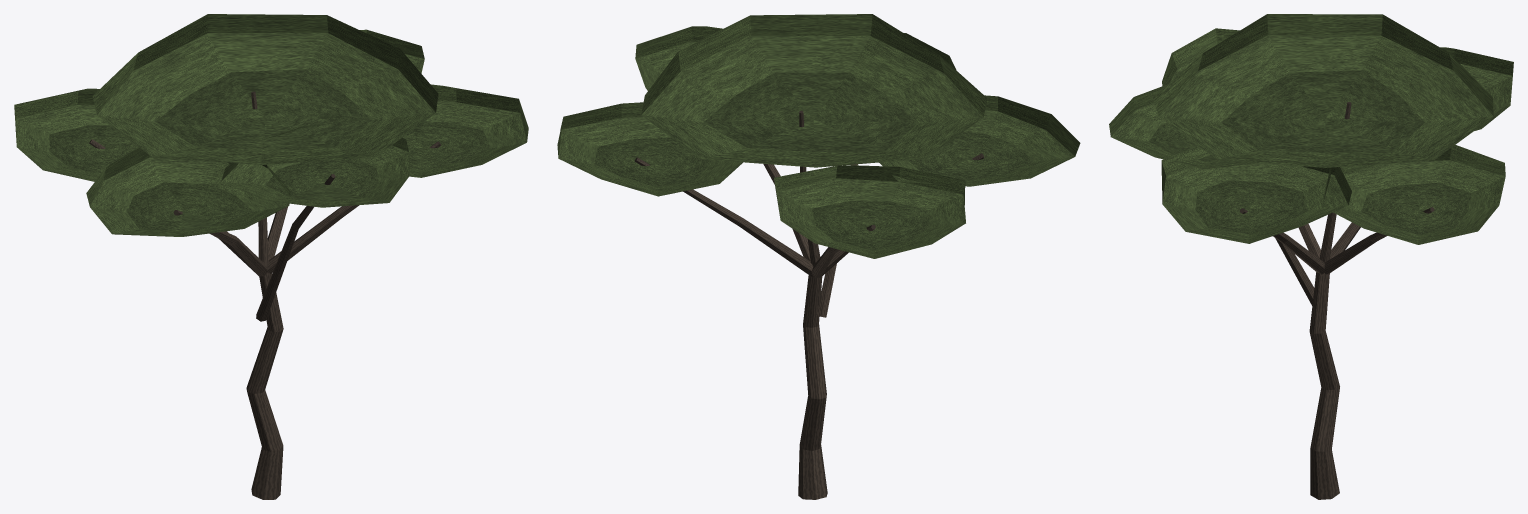
Rendered from tree_kikar.glb.
The picture shows the model from 3 angles, left to right: view 1: azimuth 30°, elevation 25°; view 2: azimuth 150°, elevation 25°; view 3: azimuth 270°, elevation 25°; orthographic projection.
Visible parts, largest first — view 1: tree_kikar; view 2: tree_kikar; view 3: tree_kikar.
Part boxes in pixels (bbox=[...]): tree_kikar: bbox=[14, 14, 528, 499]; tree_kikar: bbox=[557, 14, 1080, 499]; tree_kikar: bbox=[1109, 14, 1513, 499].
Bounding box in the file's own units: 7.11 × 7 × 5.86.
1 material, 1 textured.
